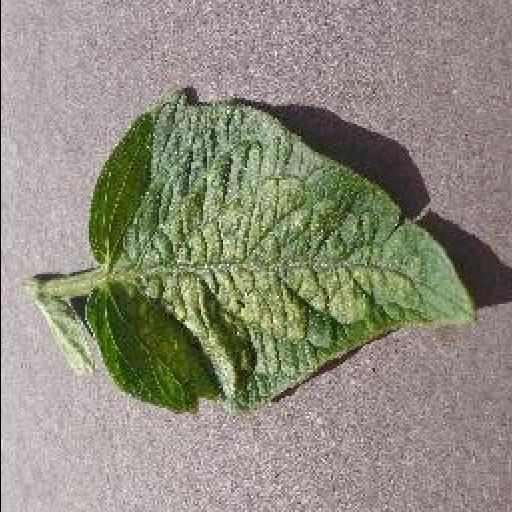disease_tomato: (88, 94, 478, 414)
